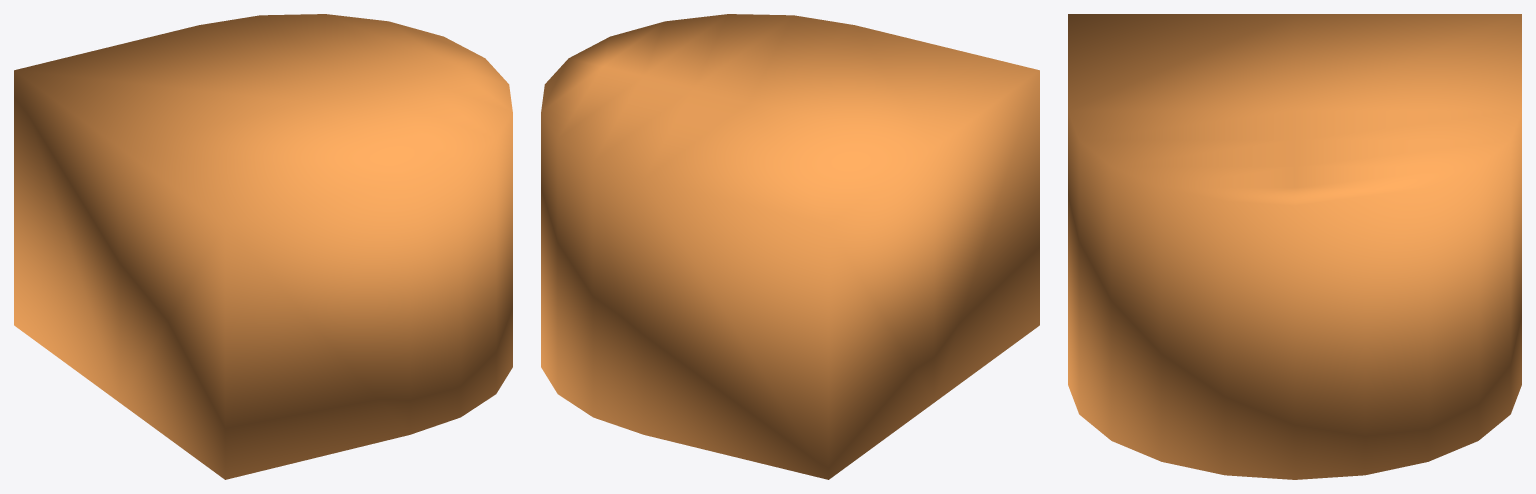
Rendered from AND-transformed.glb.
3 views of the same model, side by side, from view 1: azimuth 30°, elevation 25°; view 2: azimuth 150°, elevation 25°; view 3: azimuth 270°, elevation 25° (orthographic). The views are drawn at different scales.
Visible parts, largest first — view 1: 4; view 2: 4; view 3: 4.
Boxes of the visible parts, x1,y1,x2,y2 form: 4: (14, 14, 512, 479); 4: (541, 14, 1039, 479); 4: (1068, 14, 1521, 479).
Bounding box in the file's own units: 3 × 2 × 3.
